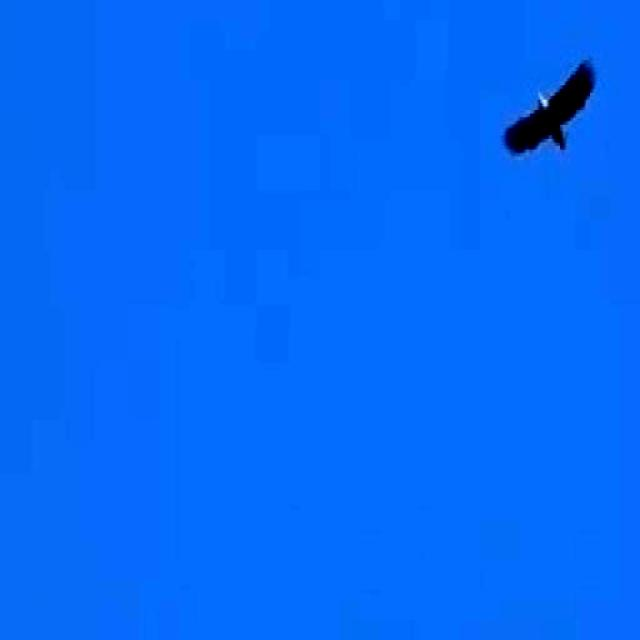airplane: (498, 40, 592, 190)
